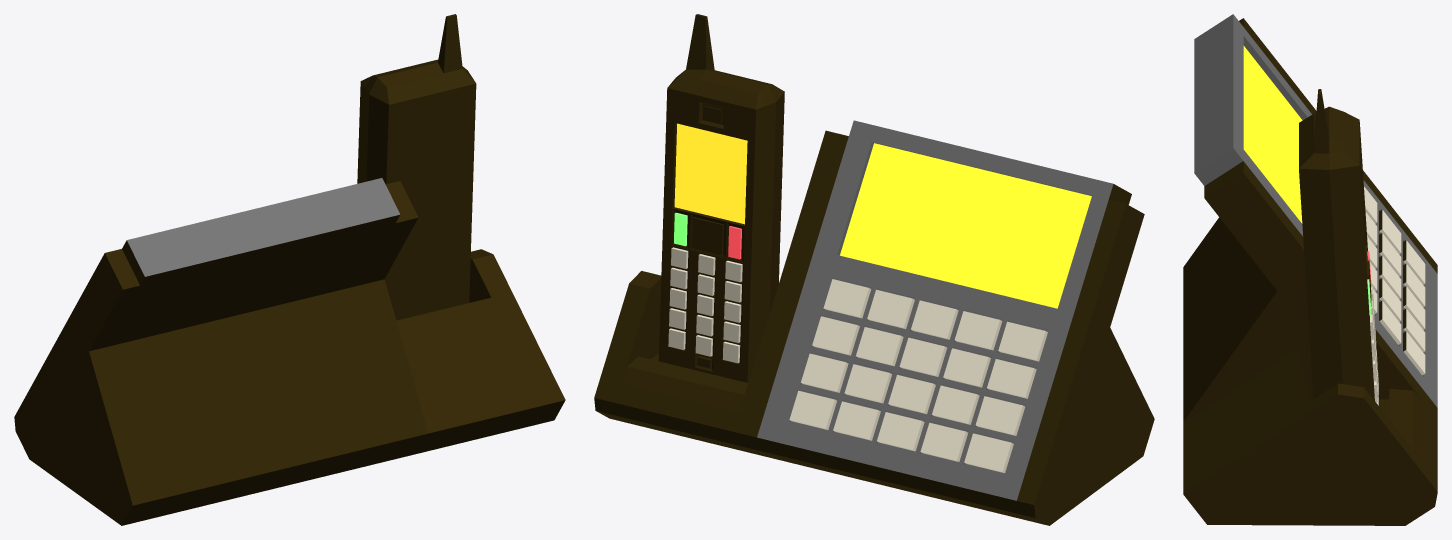
File: kris_phone.fbx
3 renders of one model, left to right at view 1: azimuth 30°, elevation 25°; view 2: azimuth 150°, elevation 25°; view 3: azimuth 270°, elevation 25°, orthographic. The views are drawn at different scales.
Parts seen in each view (by area): view 1: PhoneCradle, Phone; view 2: PhoneCradle, Phone; view 3: PhoneCradle, Phone.
Part boxes in pixels (x1,y1,x2,y2): PhoneCradle: [14, 178, 565, 525]; Phone: [357, 14, 476, 320]; PhoneCradle: [594, 120, 1154, 525]; Phone: [658, 14, 784, 382]; PhoneCradle: [1183, 14, 1437, 525]; Phone: [1299, 89, 1378, 405].
Size of the model in its own units: 777 by 651 by 368.
